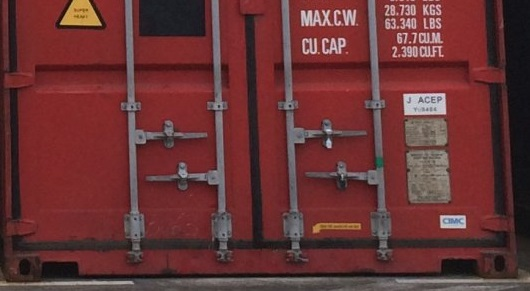container_door: (5, 4, 518, 282)
